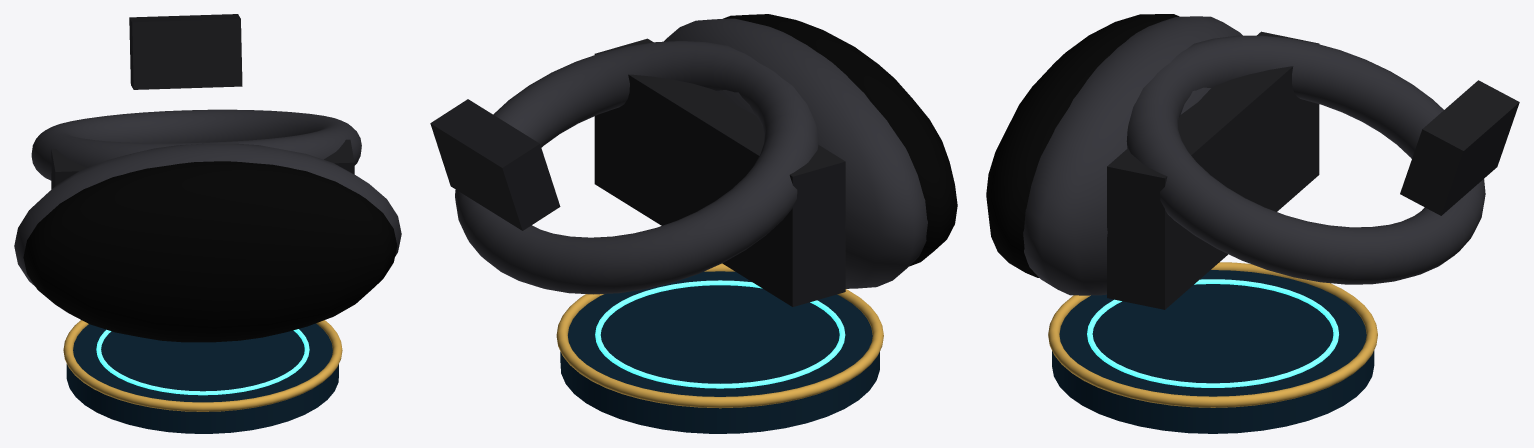
The model's file is plugin-mvmrewqw-vr4m.glb.
The picture shows the model from 3 angles, left to right: view 1: azimuth 30°, elevation 25°; view 2: azimuth 150°, elevation 25°; view 3: azimuth 270°, elevation 25°; orthographic projection. The views are drawn at different scales.
Parts seen in each view (by area): view 1: part (×8); view 2: part (×8); view 3: part (×8).
Boxes of the visible parts, x1,y1,x2,y2 form: part (×8): (14,14,401,433); part (×8): (430,14,957,433); part (×8): (986,14,1519,433).
Size of the model in its own units: 0.514 by 0.3603 by 0.5628.
